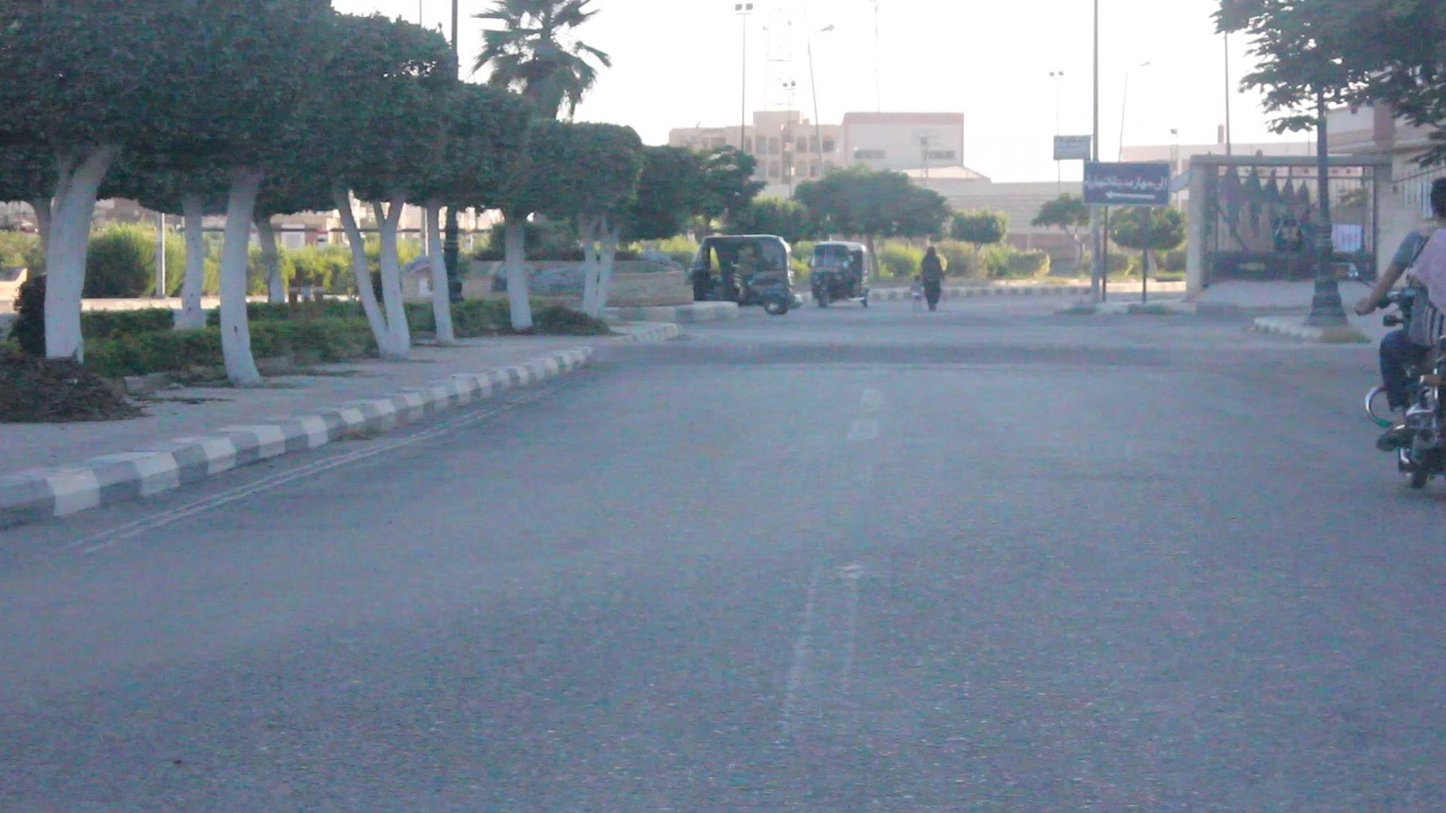Bump: (576, 342, 1387, 370)
